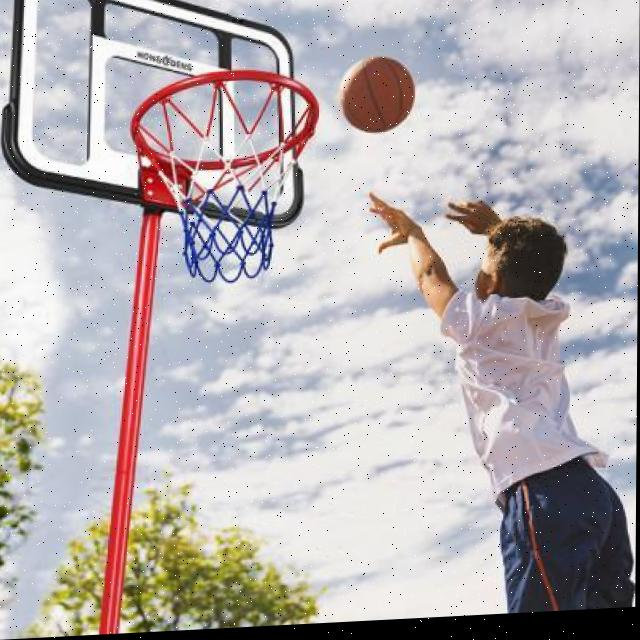basketball: (339, 52, 417, 135)
hoop: (132, 65, 323, 288)
